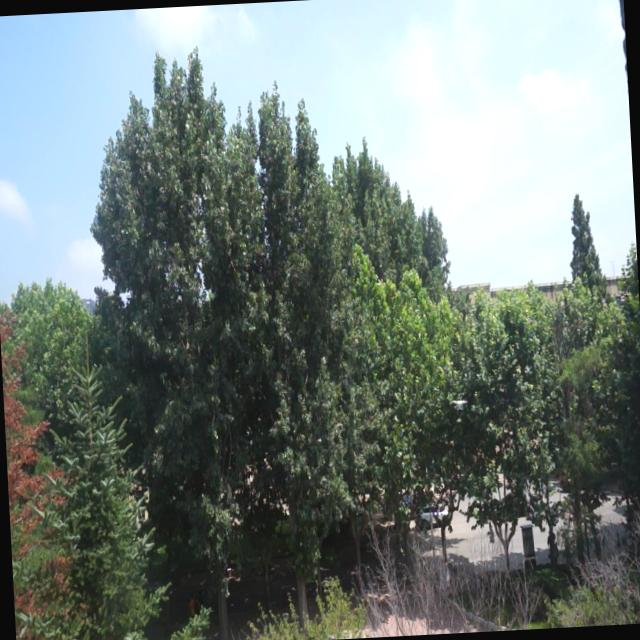drone: (447, 391, 470, 417)
